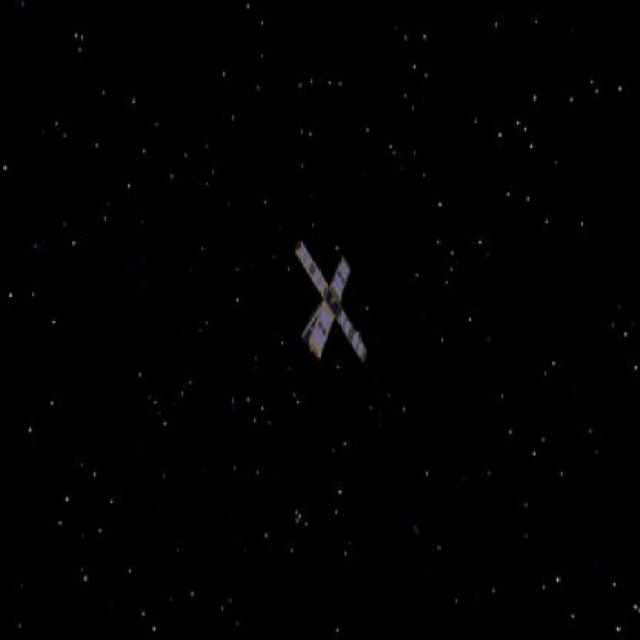medium_debris: (290, 238, 372, 364)
